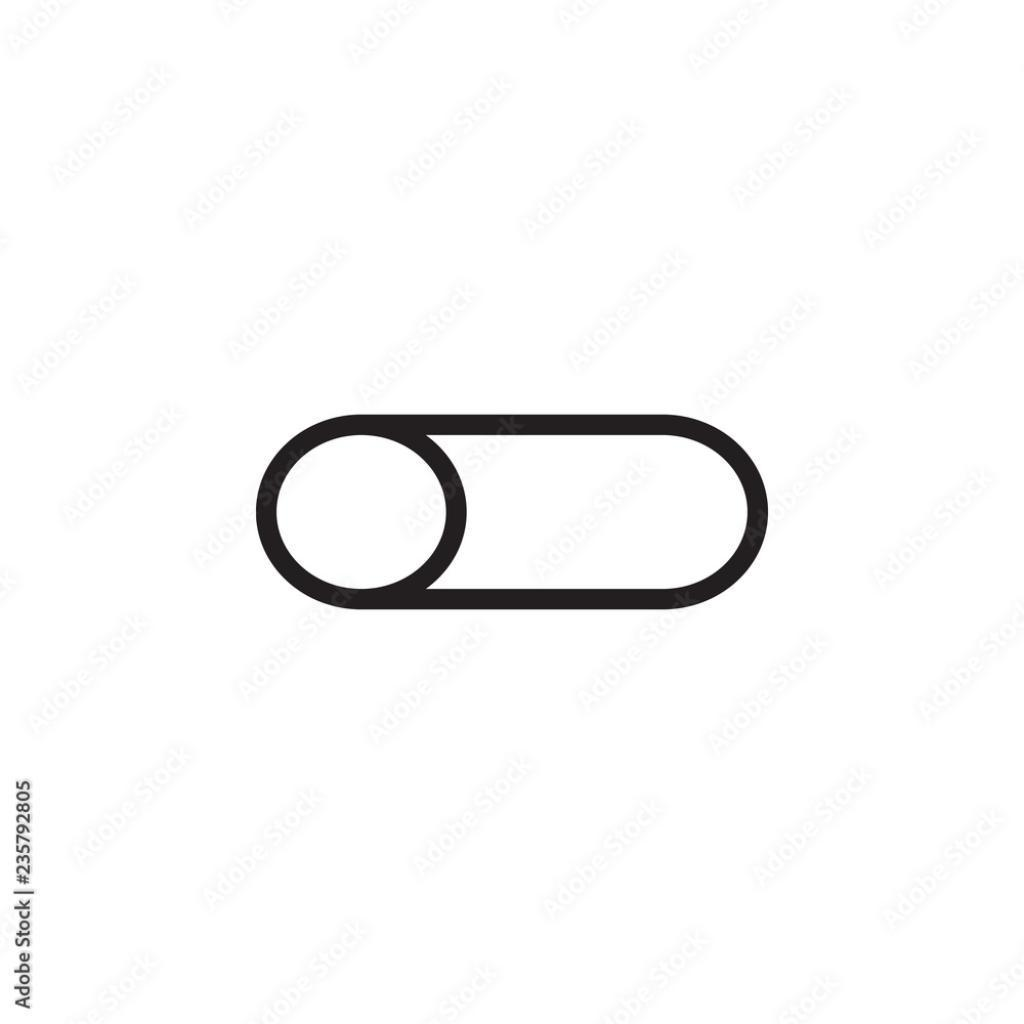switch: (258, 414, 770, 611)
